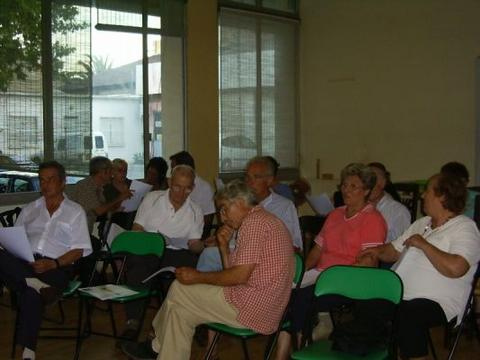person: (148, 179, 297, 360), (1, 159, 94, 360), (132, 166, 219, 268)
